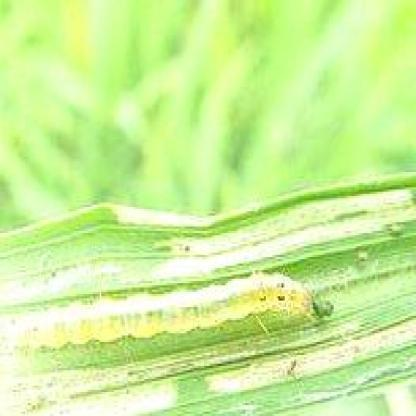leaf-folder: (8, 258, 360, 358)
